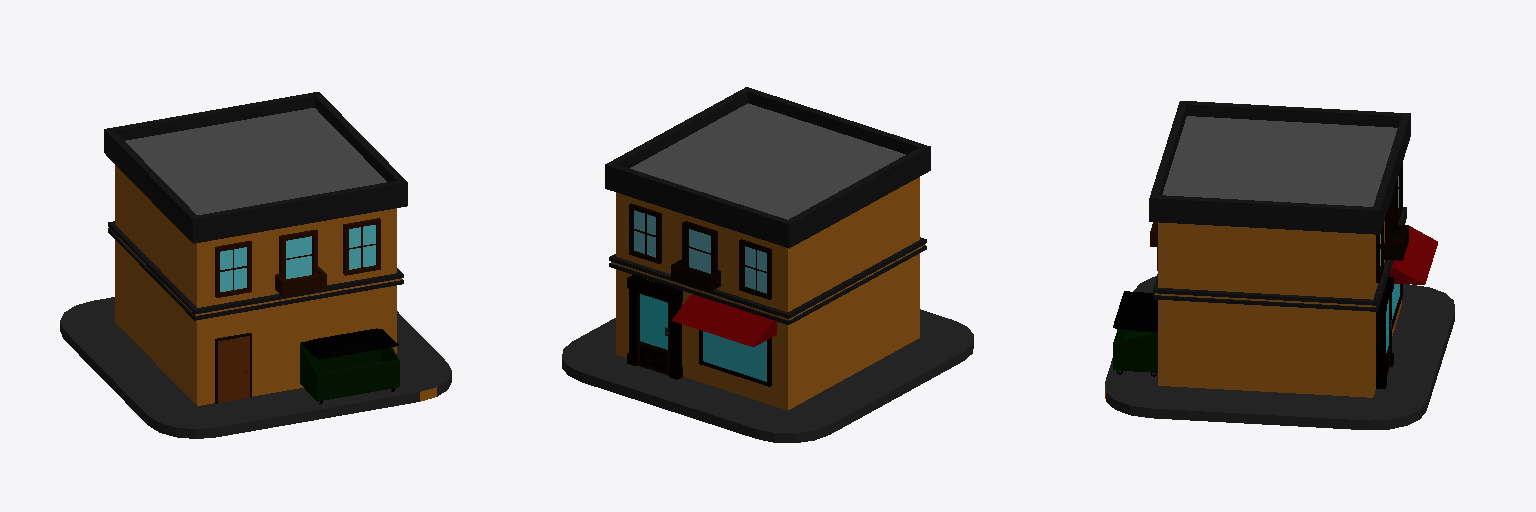
Rendered from shop_01.obj.
The picture shows the model from 3 angles: view 1: azimuth 30°, elevation 25°; view 2: azimuth 150°, elevation 25°; view 3: azimuth 270°, elevation 25°; orthographic projection.
Visible parts, largest first — view 1: shop, windows_top_back, dumpster, door_back; view 2: shop, windows_top_front, door_front, umbrella_thingy, window_front_bottom; view 3: shop, dumpster, windows_top_front, umbrella_thingy, door_front.
Part boxes in pixels (x1,y1,x2,y2): shop: (60,92,451,438); windows_top_back: (215,218,380,297); dumpster: (300,328,399,403); door_back: (215,333,251,403); shop: (562,87,973,442); windows_top_front: (629,203,771,299); door_front: (627,275,682,379); umbrella_thingy: (672,294,776,346); window_front_bottom: (699,330,771,386); shop: (1105,101,1454,429); dumpster: (1113,291,1157,376); windows_top_front: (1376,163,1408,282); umbrella_thingy: (1389,226,1437,284); door_front: (1376,277,1393,388).
Bounding box in the file's own units: 64.8 × 40.88 × 64.8.